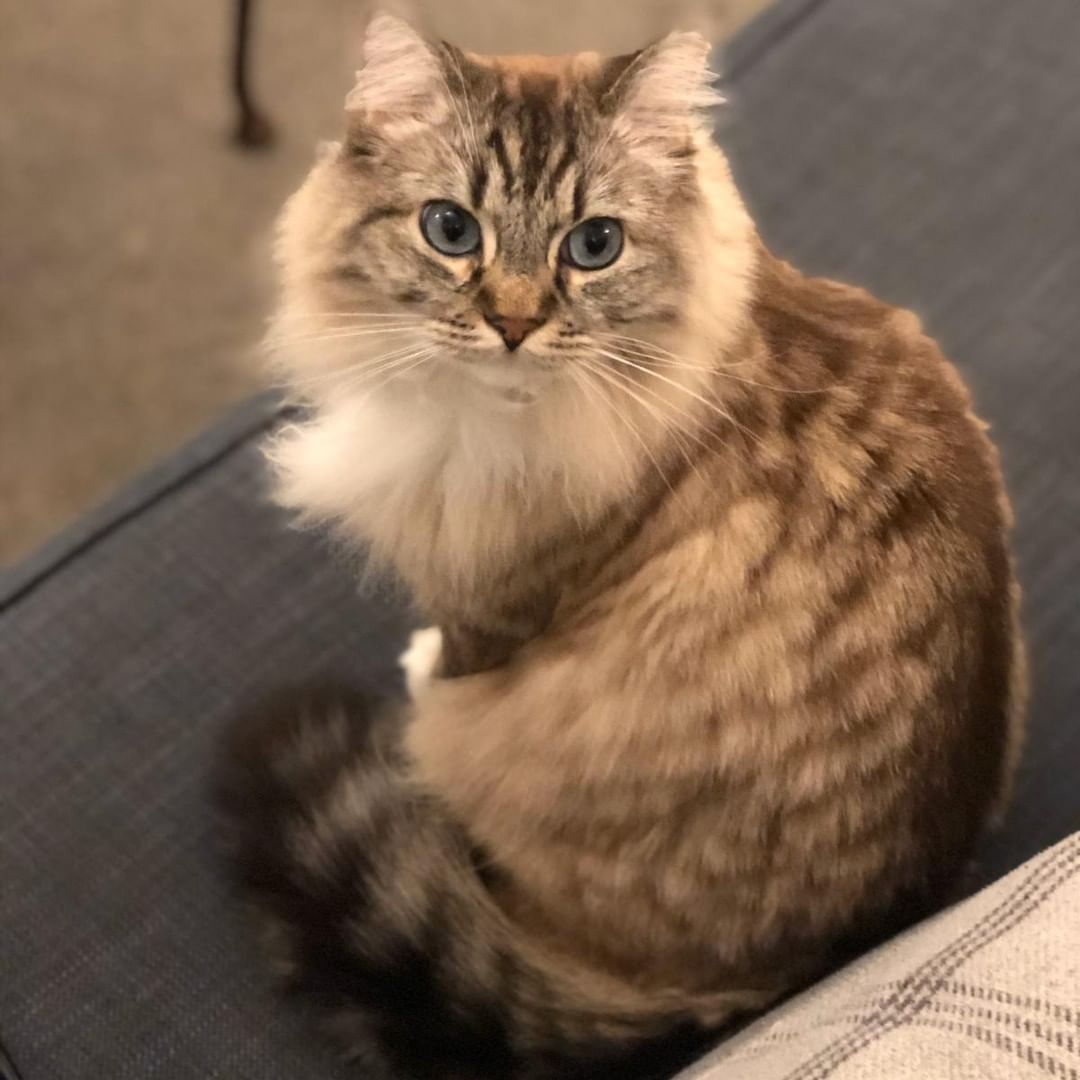cat: (210, 9, 1053, 1058)
